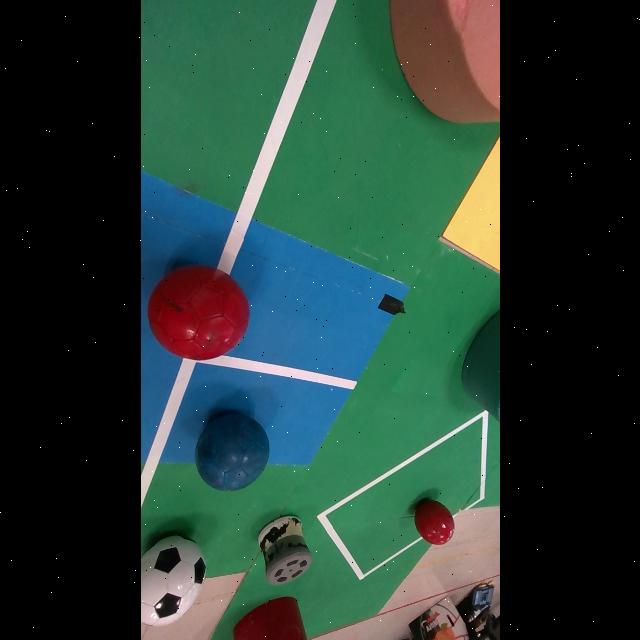B: (195, 412, 269, 491)
R: (148, 265, 250, 361), (414, 500, 455, 545)
